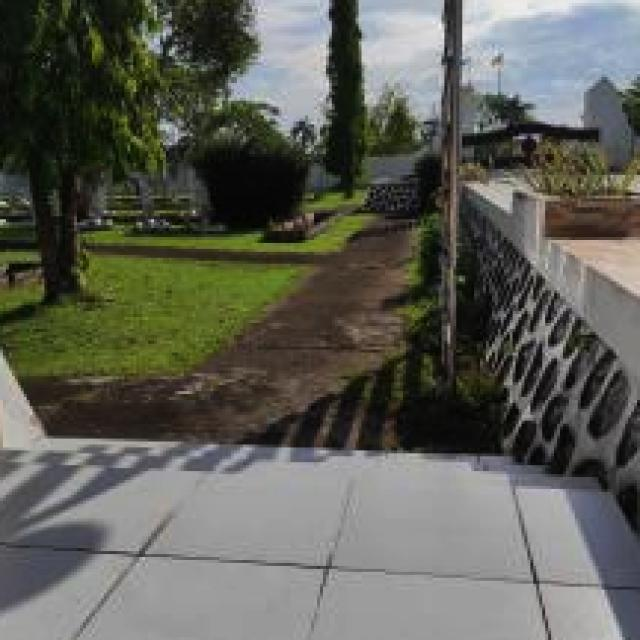downstair: (1, 383, 638, 570)
